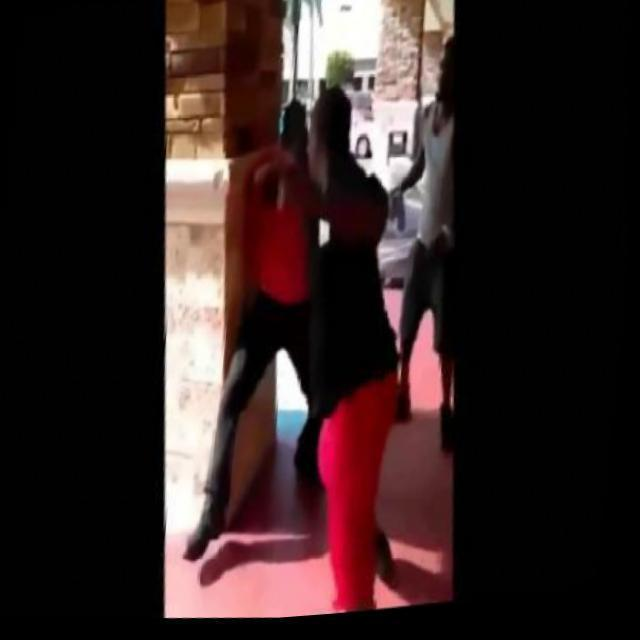fight: (173, 73, 457, 624)
